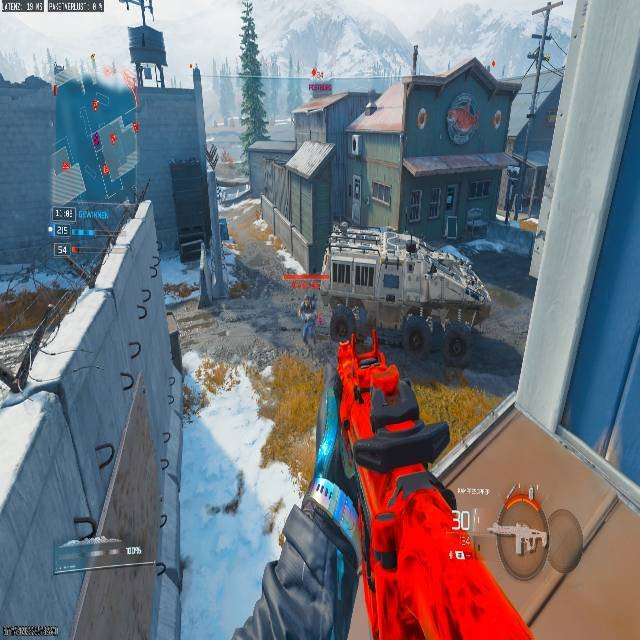head: (303, 292, 313, 303)
player: (299, 292, 316, 346)
